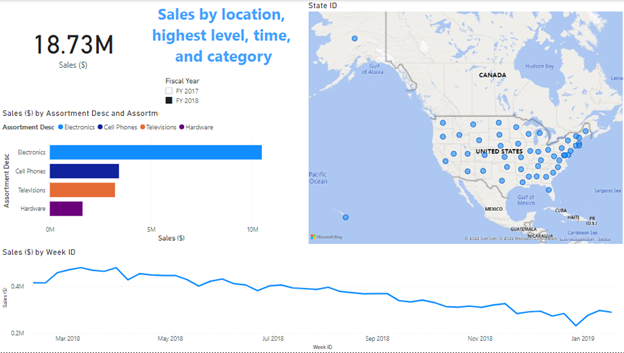

The page's visual inventory and layout, read from the dashboard file:
{"tool":"powerbi","page":{"name":"Page 1","canvas":[1280,720],"ordinal":0},"visuals":[{"type":"card","fields":{"Values":["Sum(Geo Data.Sales ($))"]},"box":[10.2,0,280.1,186.7],"z":0},{"type":"barChart","fields":{"Category":["Assortment Details.Assortment Desc"],"Y":["Sum(Geo Data.Sales ($))"]},"box":[23.8,200.3,616.2,280.1],"z":1},{"type":"map","fields":{"Category":["Geo Data.State ID"]},"box":[626.4,0,653.6,504.2],"z":2},{"type":"lineChart","fields":{"Y":["Sum(In-Stock Data.Sales ($))"],"Category":["In-Stock Data.Week ID"]},"box":[0,504.2,1280,215.6],"z":3},{"type":"textbox","box":[290,0,336,187],"z":4}]}

Visuals, with their boxes in screenshot pixels (x1, y1, x2, y2), scaled from the page's 1280x720 canvas onto the 624x353 screenshot:
card - Sum(Geo Data.Sales ($)): x1=5, y1=0, x2=142, y2=92
barChart - Assortment Details.Assortment Desc x Sum(Geo Data.Sales ($)): x1=12, y1=98, x2=312, y2=236
map - Geo Data.State ID: x1=305, y1=0, x2=623, y2=247
lineChart - Sum(In-Stock Data.Sales ($)) x In-Stock Data.Week ID: x1=0, y1=247, x2=623, y2=352
textbox: x1=141, y1=0, x2=305, y2=92
